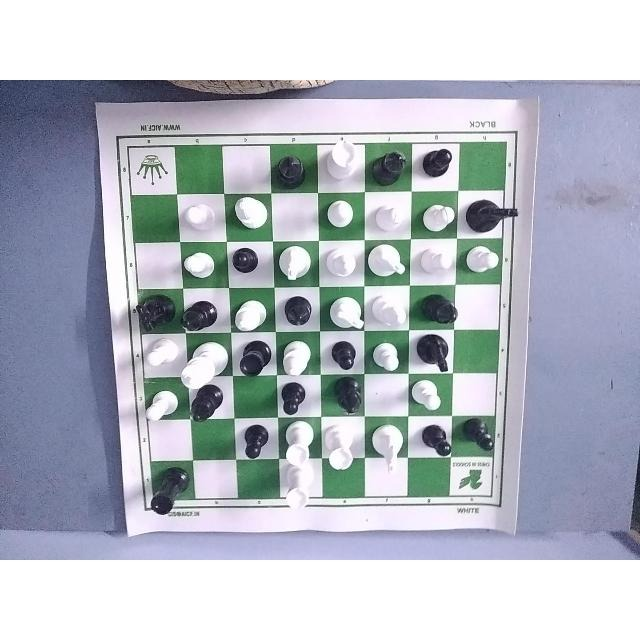black-bishop: (180, 297, 219, 339), (280, 294, 316, 329), (422, 292, 457, 326), (333, 380, 366, 416), (377, 152, 407, 191), (277, 149, 306, 189), (190, 394, 218, 424)
black-knight: (414, 326, 456, 375), (465, 201, 521, 233), (137, 294, 174, 330)
black-pawn: (457, 418, 499, 459), (237, 426, 269, 464), (420, 423, 451, 461), (231, 247, 260, 281), (420, 148, 451, 179), (333, 342, 359, 377), (280, 384, 304, 416)
black-rook: (145, 464, 195, 519), (237, 342, 273, 377)
white-bishop: (234, 293, 270, 334), (369, 294, 407, 330), (232, 191, 266, 231), (282, 340, 311, 376), (326, 241, 354, 277)
white-king: (185, 345, 230, 385)
white-knight: (371, 418, 407, 476), (362, 242, 409, 286), (325, 288, 362, 335), (277, 248, 317, 282)
white-pawn: (143, 390, 183, 426), (320, 192, 356, 232), (422, 195, 456, 233), (462, 248, 501, 280), (183, 200, 216, 236), (412, 384, 448, 416), (371, 198, 405, 231), (419, 246, 452, 276), (186, 249, 218, 279), (372, 342, 399, 374), (147, 342, 173, 370)
white-rook: (283, 467, 319, 509), (326, 424, 354, 476), (283, 423, 316, 467), (322, 138, 354, 183)
